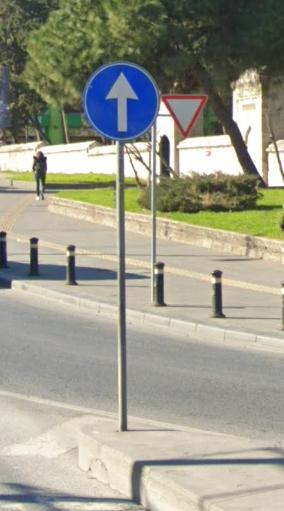forward: (86, 61, 156, 143)
